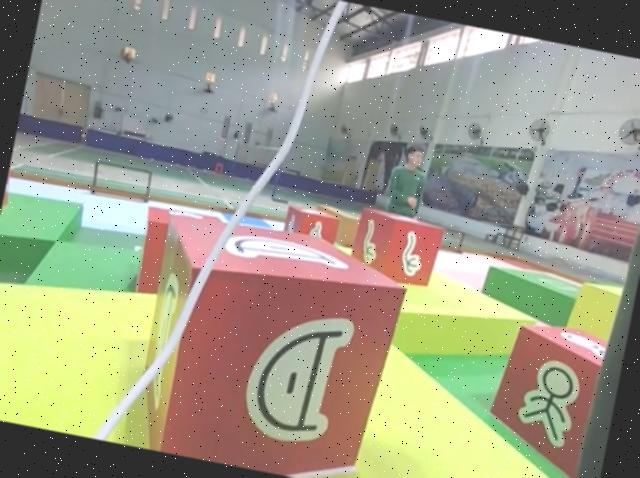R1: (0, 148, 18, 218)
R2 Real: (123, 207, 413, 478), (476, 313, 608, 478), (345, 204, 444, 288)
